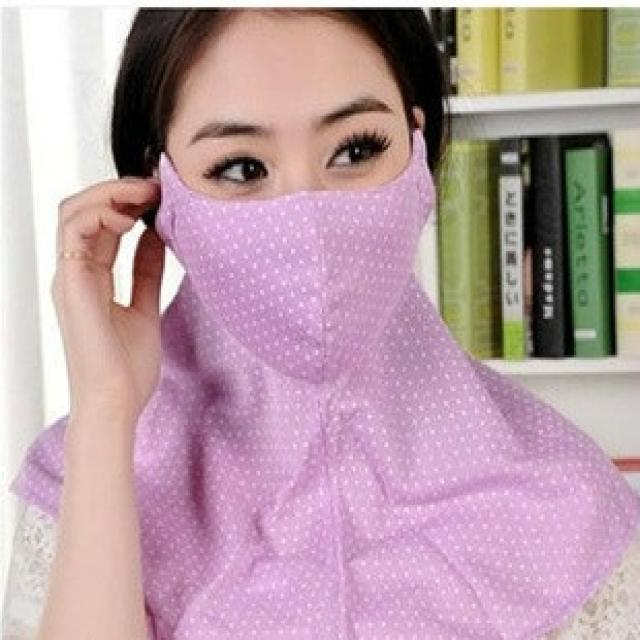mask: (169, 4, 421, 354)
